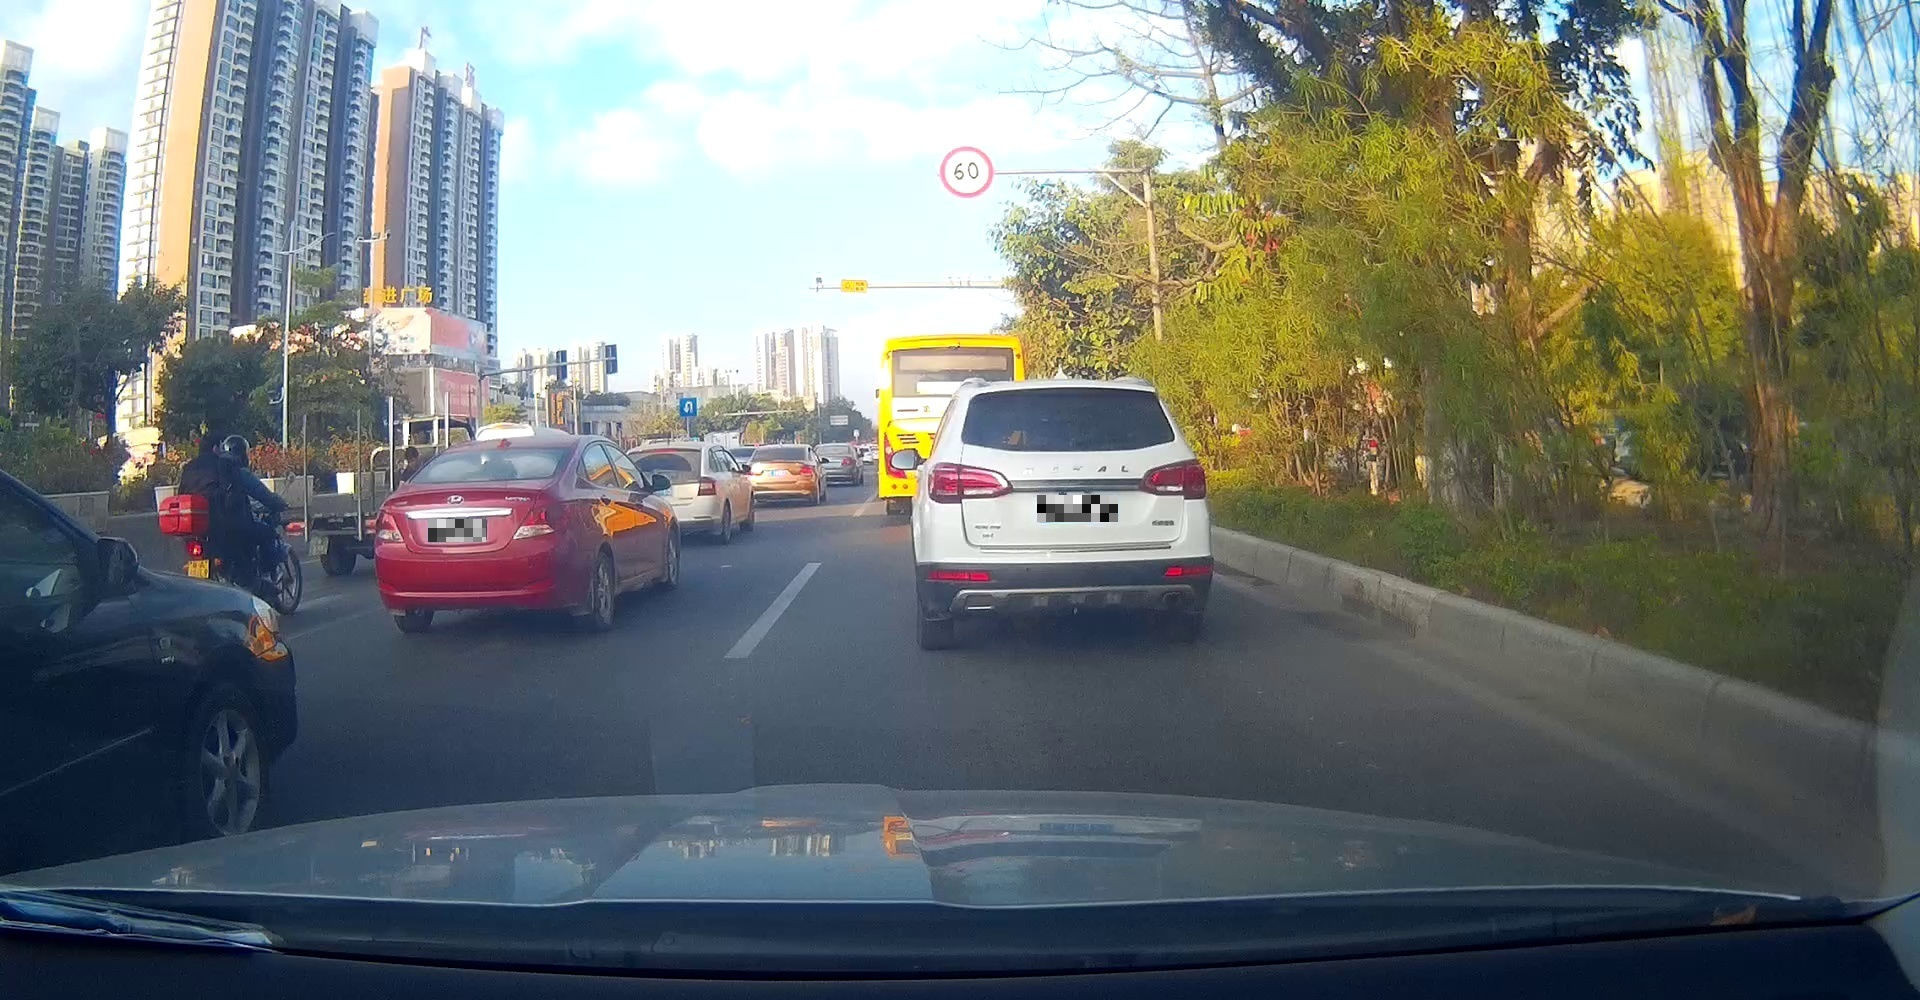L_light: (927, 462, 1013, 505), (375, 509, 405, 542)
R_light: (1137, 458, 1206, 500), (510, 500, 578, 541)
T_light: (1048, 388, 1095, 395), (465, 477, 491, 481)
day-no: (913, 376, 1213, 650), (373, 435, 578, 629)
plate_1: (428, 519, 486, 542)
plate_2: (1037, 495, 1117, 522)
